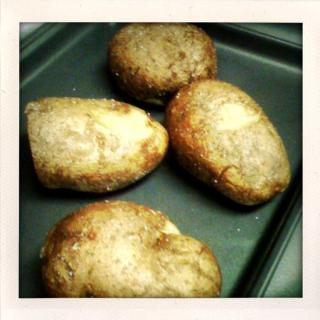Potato: (39, 199, 222, 299), (164, 77, 290, 206), (24, 96, 171, 192), (107, 22, 217, 108)
